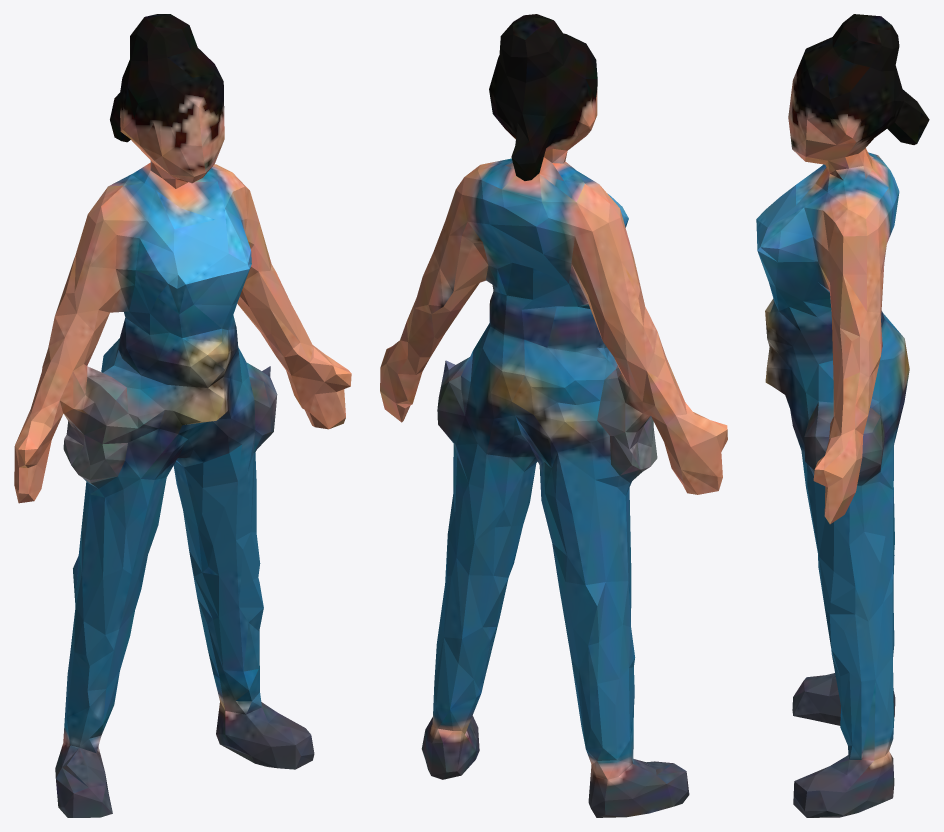
File: habitant-loin.glb
3 views of the same model, side by side, from view 1: azimuth 30°, elevation 25°; view 2: azimuth 150°, elevation 25°; view 3: azimuth 270°, elevation 25° (orthographic). The views are drawn at different scales.
Parts seen in each view (by area): view 1: habitant; view 2: habitant; view 3: habitant.
Boxes of the visible parts, x1=… form: habitant: x1=14, y1=14, x2=351, y2=817; habitant: x1=380, y1=14, x2=727, y2=817; habitant: x1=756, y1=14, x2=929, y2=817.
Bounding box in the file's own units: 0.4627 × 1.01 × 0.2124.
Materials: 1 (1 with a texture image).
